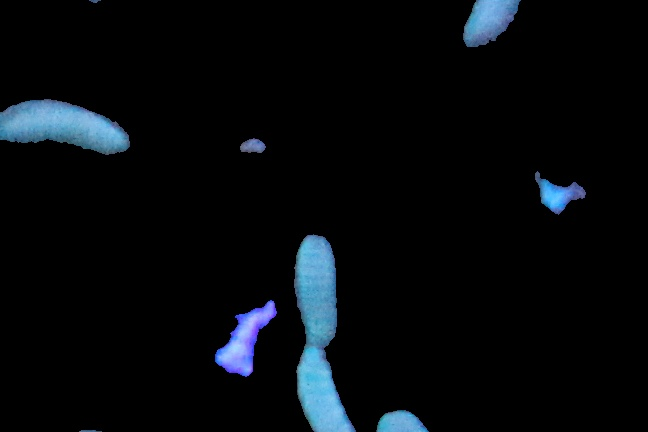larvae: (1, 100, 133, 161), (294, 240, 340, 353), (293, 348, 352, 432), (457, 1, 520, 47)
